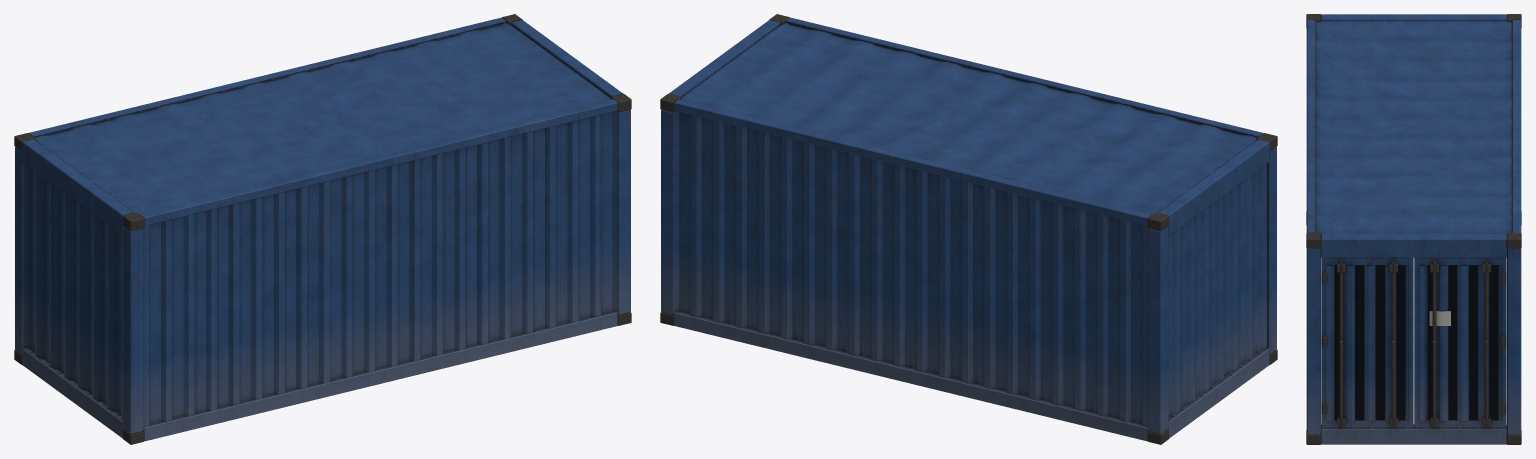
File: container20_blue.glb
The picture shows the model from 3 angles, left to right: view 1: azimuth 30°, elevation 25°; view 2: azimuth 150°, elevation 25°; view 3: azimuth 270°, elevation 25°; orthographic projection. The views are drawn at different scales.
Parts seen in each view (by area): view 1: container20_blue; view 2: container20_blue; view 3: container20_blue.
Part boxes in pixels (left/top/right/bottom): container20_blue: left=14, top=14, right=631, bottom=444; container20_blue: left=660, top=14, right=1277, bottom=444; container20_blue: left=1306, top=14, right=1521, bottom=444.
Bounding box in the file's own units: 6.18 × 2.59 × 2.45.
1 material, 1 textured.
